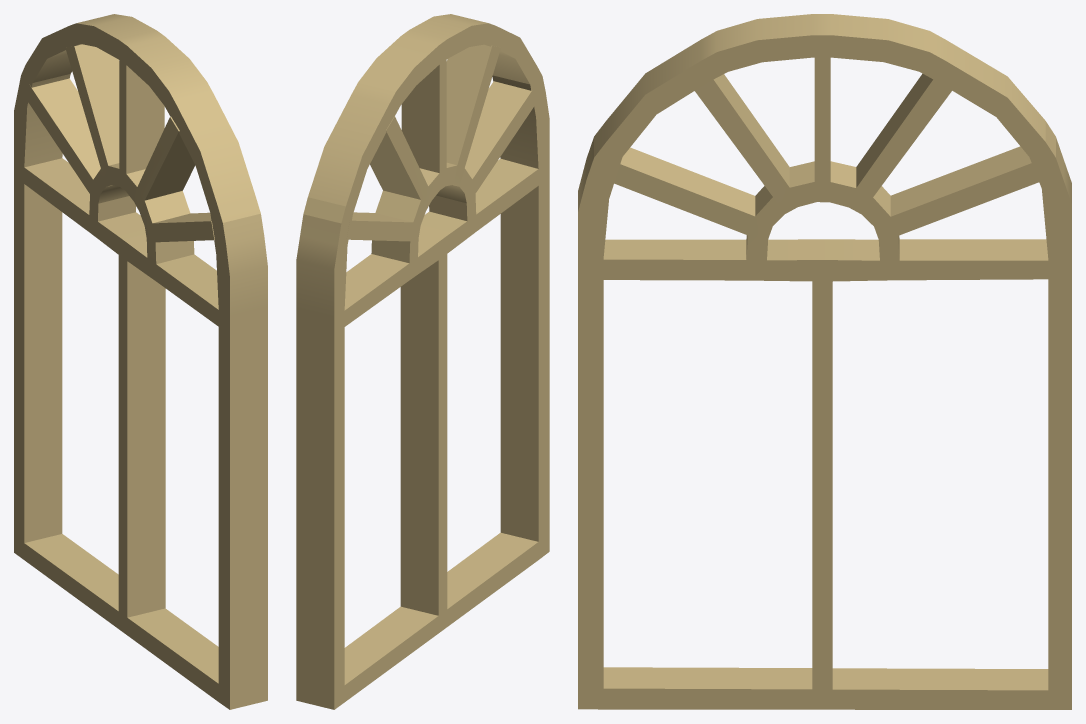
File: window round sun .fbx
3 renders of one model, left to right at view 1: azimuth 30°, elevation 25°; view 2: azimuth 150°, elevation 25°; view 3: azimuth 270°, elevation 25°, orthographic. The views are drawn at different scales.
Parts seen in each view (by area): view 1: pCube2; view 2: pCube2; view 3: pCube2.
Boxes of the visible parts, x1,y1,x2,y2 form: pCube2: (14,14,267,709); pCube2: (296,14,549,709); pCube2: (578,14,1071,709).
Size of the model in its own units: 5.67 by 81.24 by 53.89.
